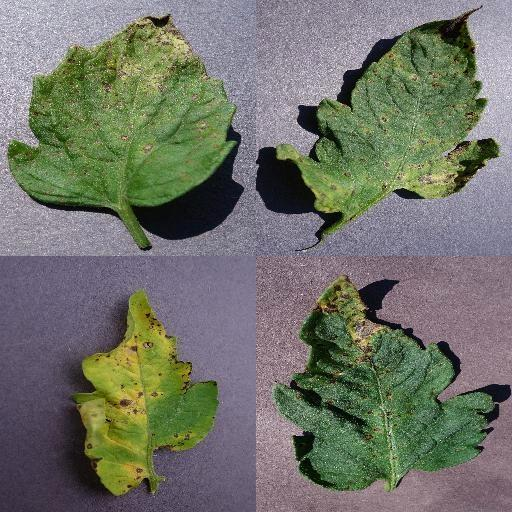Septoria: (275, 269, 496, 493), (278, 8, 500, 216), (8, 13, 236, 209), (69, 287, 217, 499)
